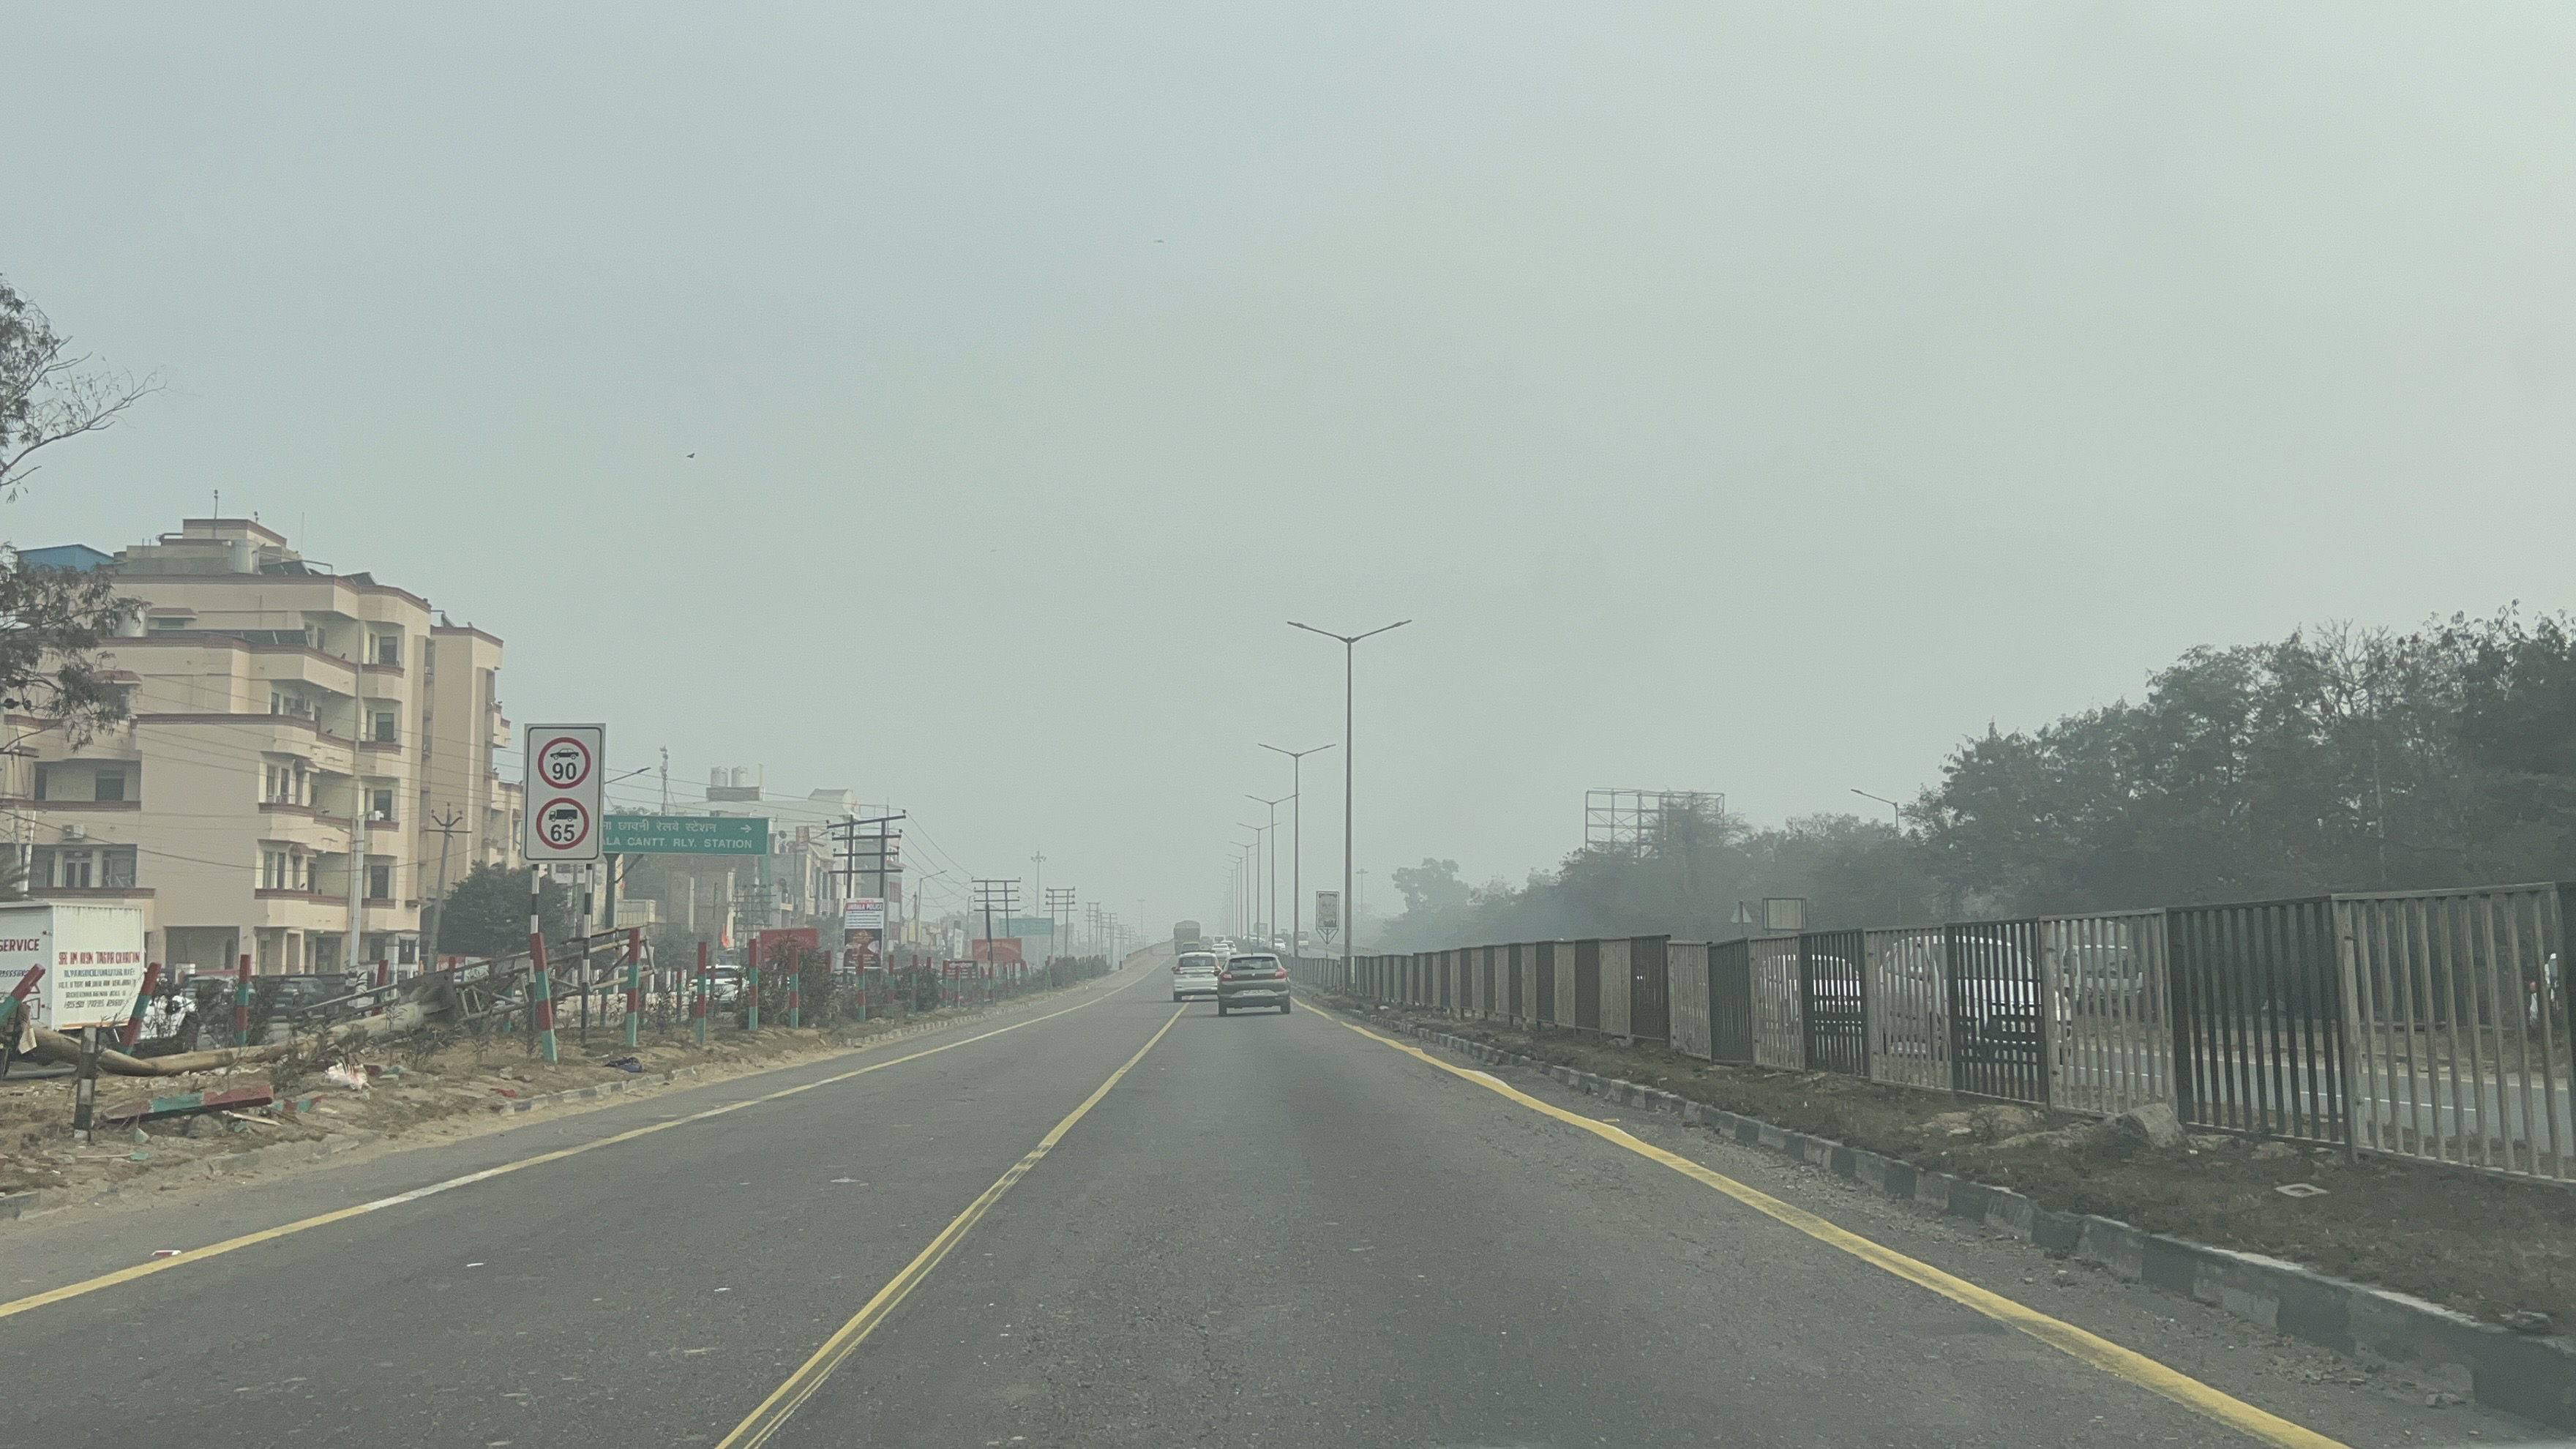Informatory: (596, 803, 775, 863)
Mandatory: (524, 725, 605, 798), (529, 791, 596, 862)
